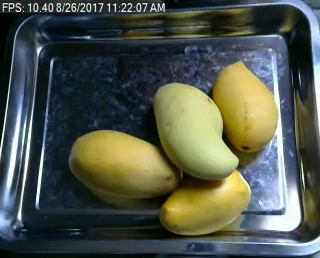Mango: (68, 129, 183, 200), (155, 83, 240, 178), (161, 168, 252, 235), (213, 61, 276, 151)
